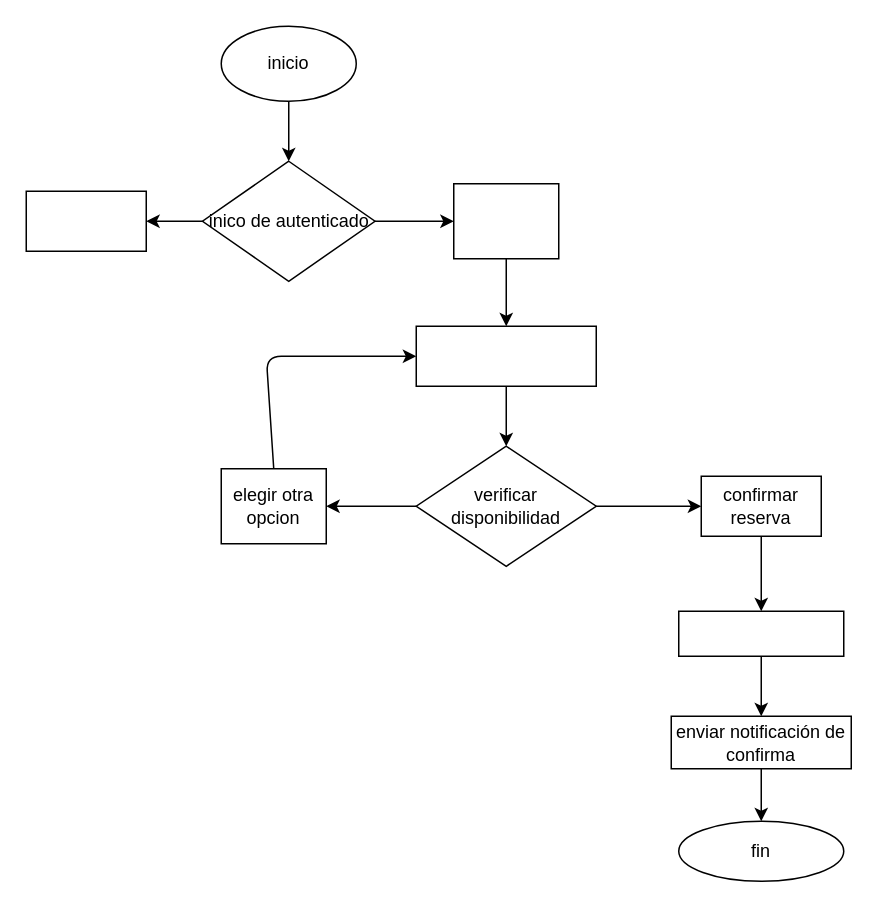
The diagram is 878 pixels wide and 908 high, and some of its shapes have lost their labels. Here are the shapes that lost their labels. From the top down, the centre of each, then its label:
At (85,220): "ingresar otra contraseña".
At (505,220): "usuario identificado".
At (505,355): "seleccion de sala o equipo".
At (760,633): "mostrar detalles para confirmar".
